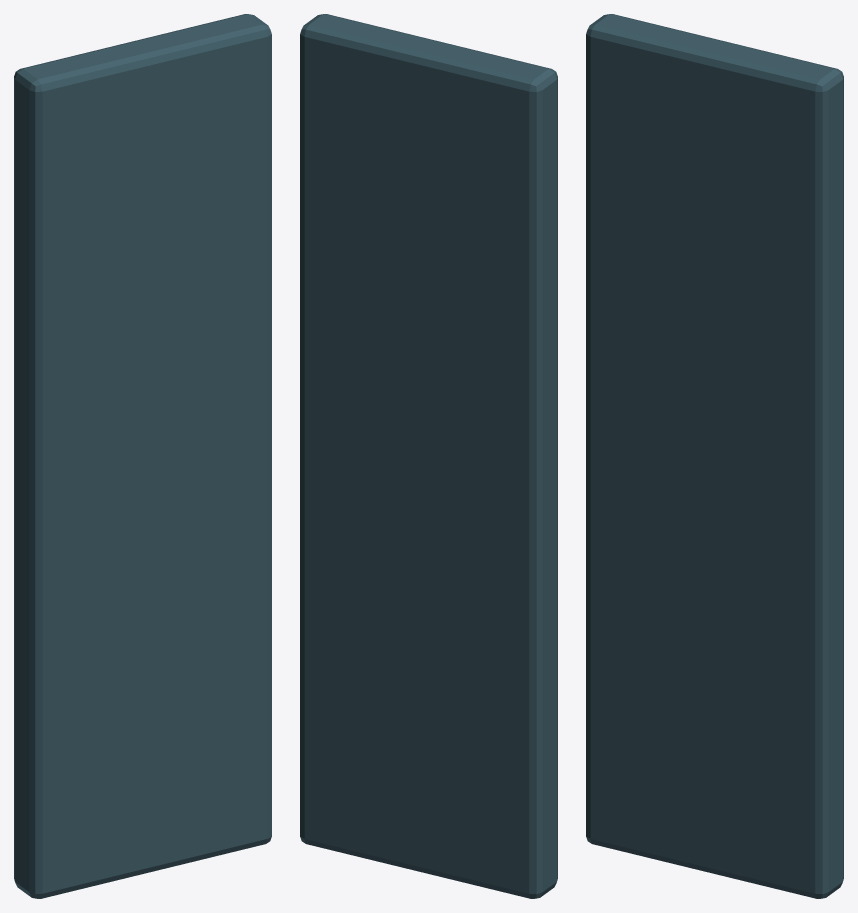
Rendered from 30_dam_gate.glb.
3 renders of one model, left to right at view 1: azimuth 30°, elevation 25°; view 2: azimuth 150°, elevation 25°; view 3: azimuth 330°, elevation 25°, orthographic.
Parts seen in each view (by area): view 1: dam_gate_slab; view 2: dam_gate_slab; view 3: dam_gate_slab.
Boxes of the visible parts, x1,y1,x2,y2 form: dam_gate_slab: (14, 14, 271, 898); dam_gate_slab: (300, 14, 557, 898); dam_gate_slab: (586, 14, 843, 898).
Size of the model in its own units: 58 by 188 by 10.
